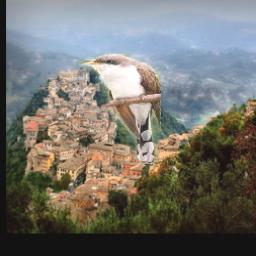Cuckoo: (80, 55, 162, 167)
